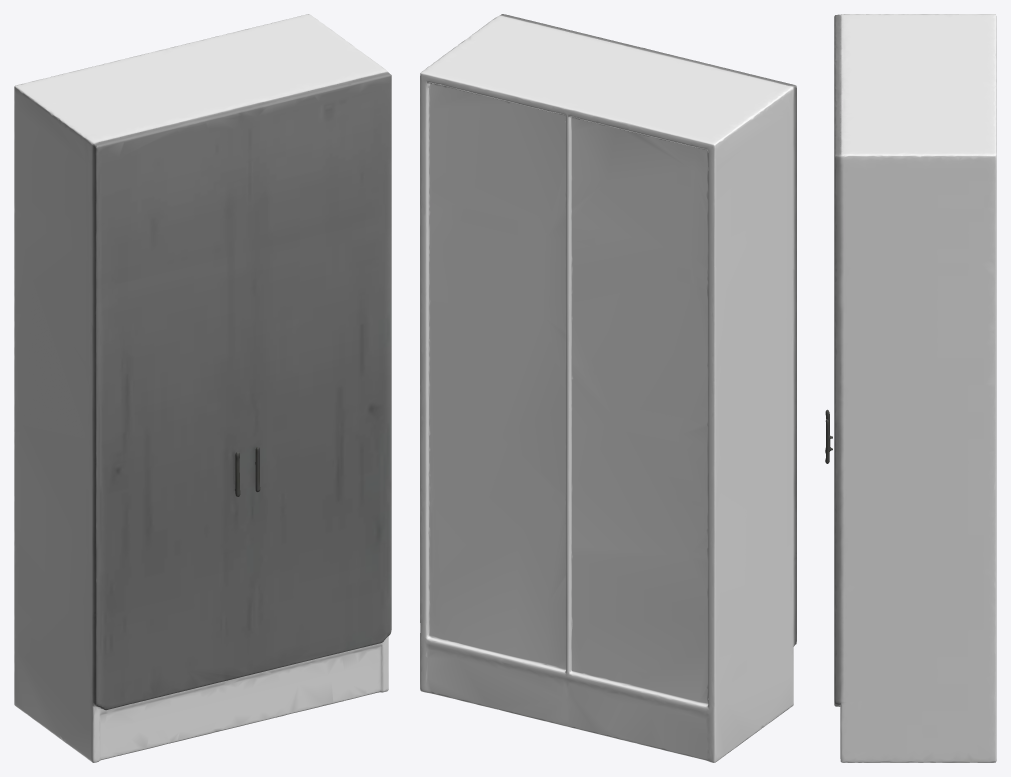
File: fm_wardrobe_grey.glb
The picture shows the model from 3 angles, left to right: view 1: azimuth 30°, elevation 25°; view 2: azimuth 150°, elevation 25°; view 3: azimuth 270°, elevation 25°; orthographic projection.
Visible parts, largest first — view 1: geometry_0; view 2: geometry_0; view 3: geometry_0.
Part boxes in pixels (box(x1,y1,x2,y2)): geometry_0: box(14, 14, 391, 762); geometry_0: box(420, 14, 796, 762); geometry_0: box(825, 14, 996, 762).
Bounding box in the file's own units: 0.5012 × 1 × 0.2561.
Materials: 1 (1 with a texture image).
